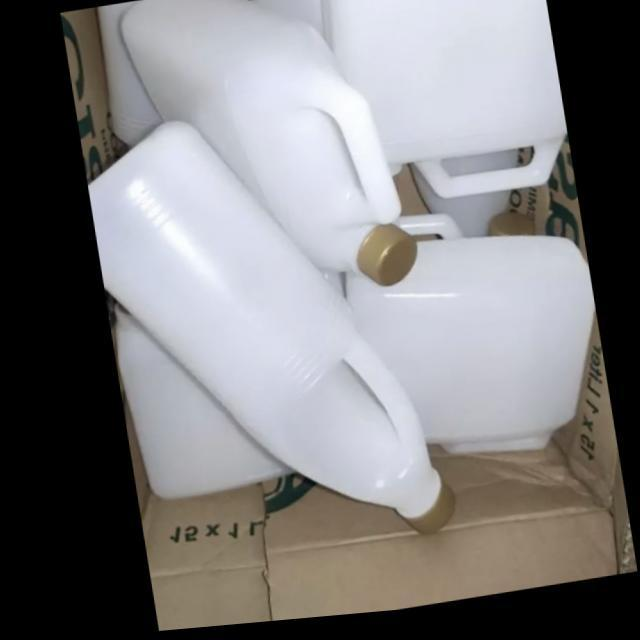plastic: (83, 120, 447, 540), (118, 0, 412, 292), (335, 220, 590, 461), (321, 0, 564, 206)
